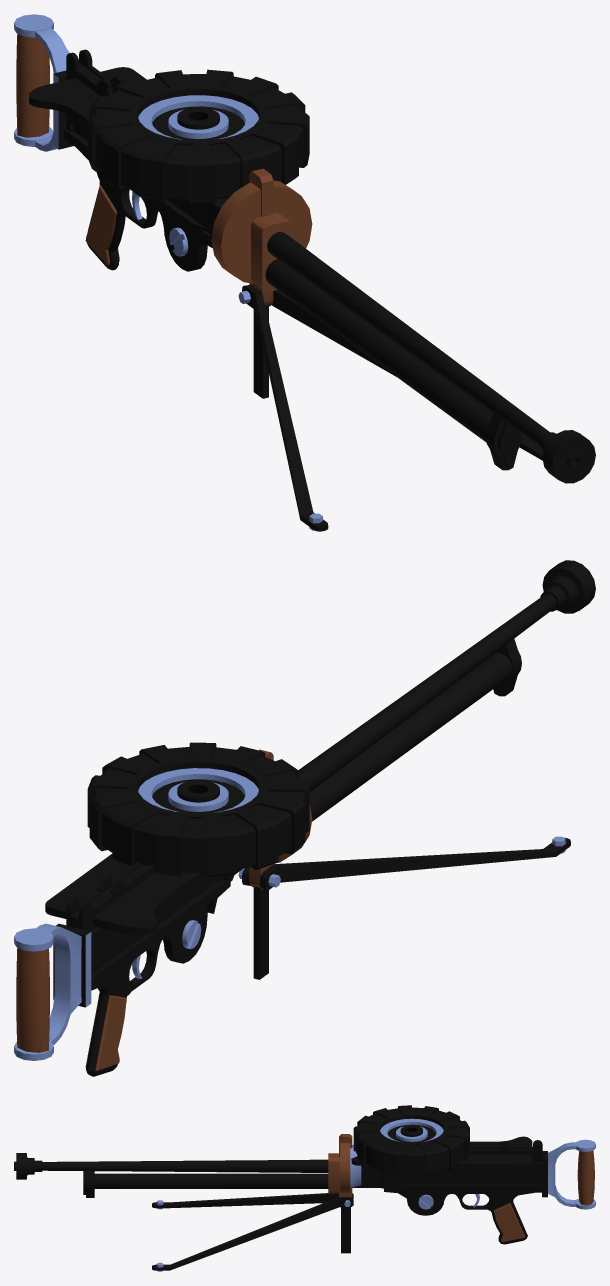
The model's file is LEWIS_MACHINE_GUN.fbx.
The picture shows the model from 3 angles, top to bottom: view 1: azimuth 30°, elevation 25°; view 2: azimuth 150°, elevation 25°; view 3: azimuth 270°, elevation 25°; orthographic projection. The views are drawn at different scales.
Parts seen in each view (by area): view 1: MAGAZINE, BODY, BARREL, ROD, HANDLE, TRIPOD_R, TRIPOD_L, TRIPOD_MID; view 2: MAGAZINE, BODY, BARREL, HANDLE, ROD, TRIPOD_R, TRIPOD_MID; view 3: BODY, MAGAZINE, ROD, BARREL, HANDLE, TRIPOD_L, TRIPOD_R, TRIPOD_MID.
Boxes of the visible parts, <box> form: MAGAZINE: <box>87,69,309,204</box>; BODY: <box>29,49,312,306</box>; BARREL: <box>267,232,595,483</box>; ROD: <box>265,259,521,470</box>; HANDLE: <box>14,14,73,151</box>; TRIPOD_R: <box>242,285,328,531</box>; TRIPOD_L: <box>272,290,543,460</box>; TRIPOD_MID: <box>238,290,268,398</box>; MAGAZINE: <box>87,742,309,876</box>; BODY: <box>45,749,312,1076</box>; BARREL: <box>298,560,595,791</box>; HANDLE: <box>14,923,91,1060</box>; ROD: <box>309,638,521,821</box>; TRIPOD_R: <box>260,836,570,890</box>; TRIPOD_MID: <box>238,868,280,979</box>; BODY: <box>328,1134,542,1244</box>; MAGAZINE: <box>353,1105,469,1176</box>; ROD: <box>83,1170,328,1197</box>; BARREL: <box>14,1153,328,1179</box>; HANDLE: <box>542,1139,595,1209</box>; TRIPOD_L: <box>152,1197,353,1271</box>; TRIPOD_R: <box>152,1193,353,1209</box>; TRIPOD_MID: <box>341,1200,350,1253</box>.
Size of the model in its own units: 34.7 by 30.31 by 130.
